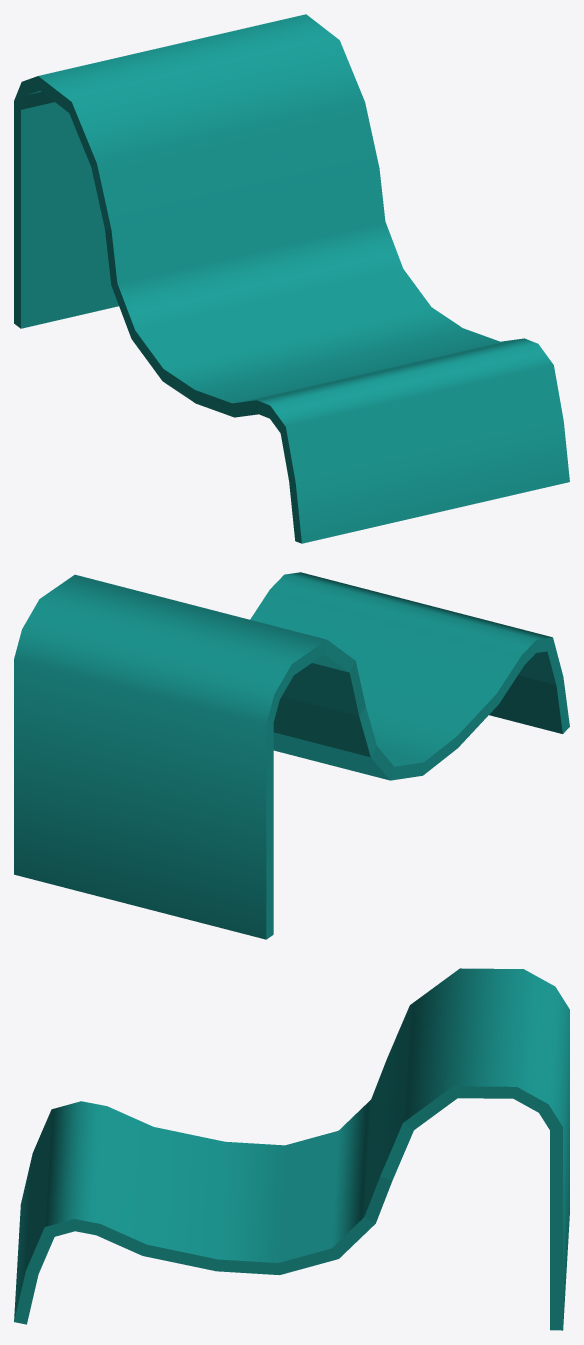
Rendered from SM_Chaire.fbx.
The picture shows the model from 3 angles, top to bottom: view 1: azimuth 30°, elevation 25°; view 2: azimuth 150°, elevation 25°; view 3: azimuth 270°, elevation 25°; orthographic projection. The views are drawn at different scales.
Parts seen in each view (by area): view 1: SM_Chaire; view 2: SM_Chaire; view 3: SM_Chaire.
Part boxes in pixels (<box>): SM_Chaire: <box>14,14,569,543</box>; SM_Chaire: <box>14,572,569,939</box>; SM_Chaire: <box>14,968,569,1330</box>.
Size of the model in its own units: 60.32 by 55.39 by 115.
